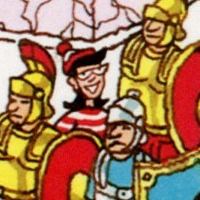wenda: (62, 41, 108, 109)
